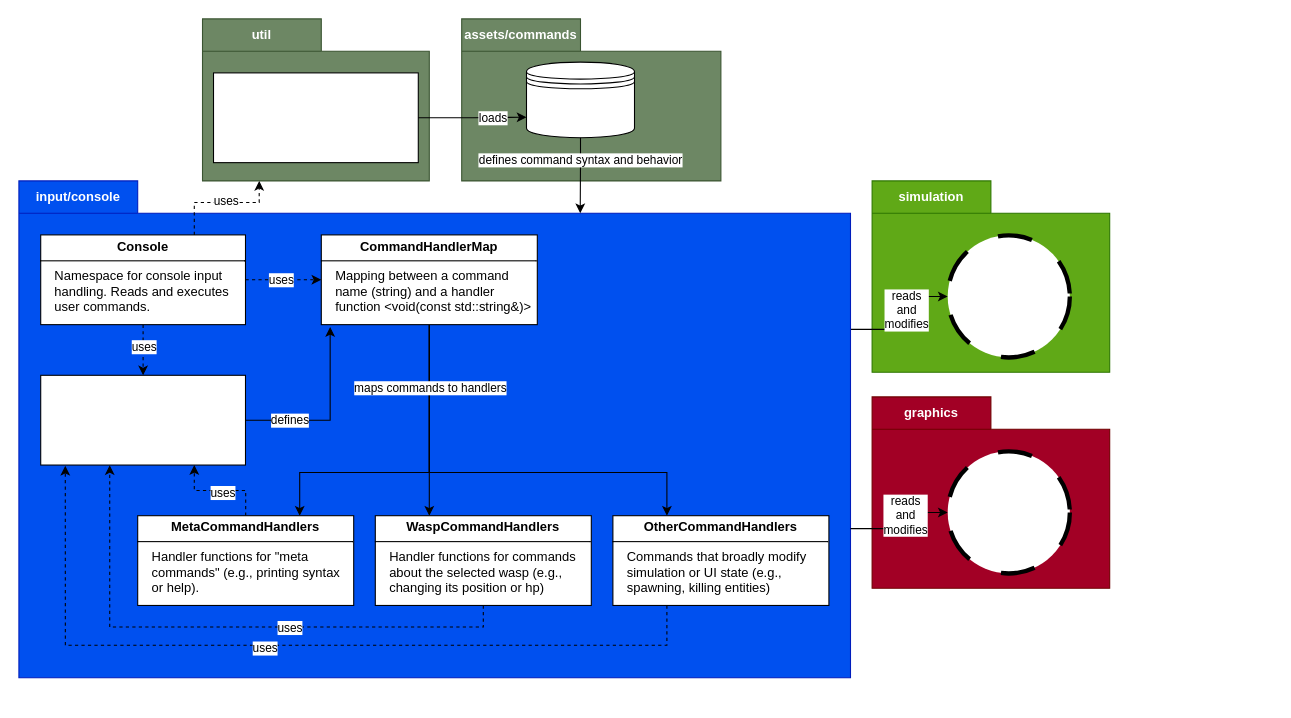
Some shapes in this 1291 by 718 pixel diagram are drawn without their labels. Each missing label, with the centre of its shape:
"<Simulation state>" belongs at point 1008,296.
"<UI::UI_STATE>" belongs at point 1008,512.
"Commands.json" belongs at point 579,99.
"CommandUtil Structures and utility functions for handling commands." belongs at point 142,419.
"JsonHandler Namespace for all functions related to handling json files." belongs at point 315,117.
